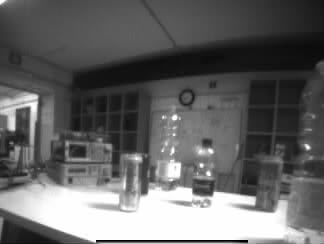Bottle: (287, 62, 324, 243), (158, 106, 179, 189), (193, 136, 212, 207)
Tin can: (121, 153, 141, 210), (258, 156, 277, 209)
